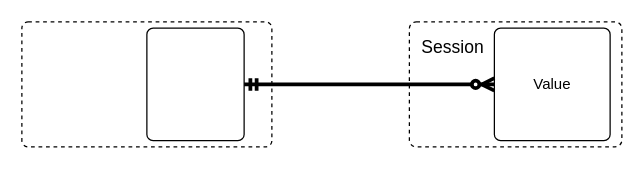
Image size: 644x169. Some labels were removed from this diagram. The box of each missing label's shape, as (x1, y1, x2, y2) in pixels:
Key: (146, 27, 244, 141)
StrategyState: (21, 21, 147, 72)
